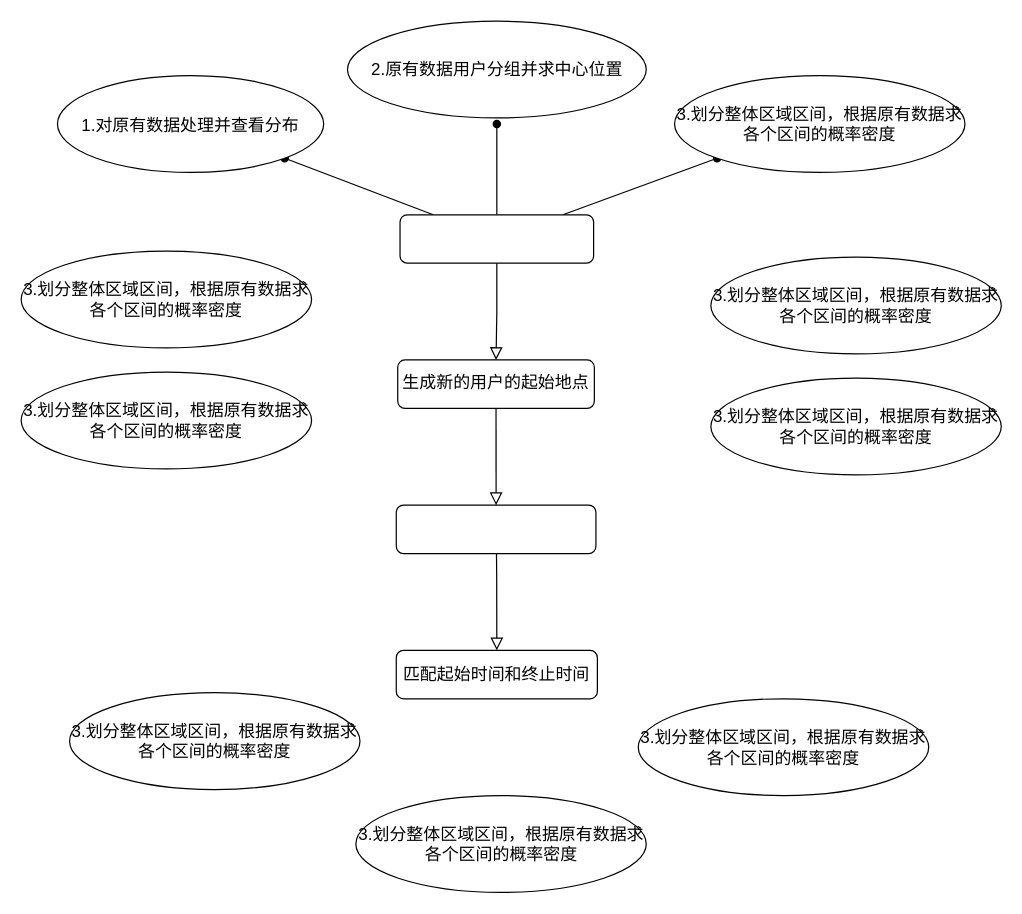
Image size: 1022x914. Some labels were removed from this diagram. Each missing label, with the centre of its shape:
原有数据处理: [496,238]
生成新的用户的终止地点: [495,529]
